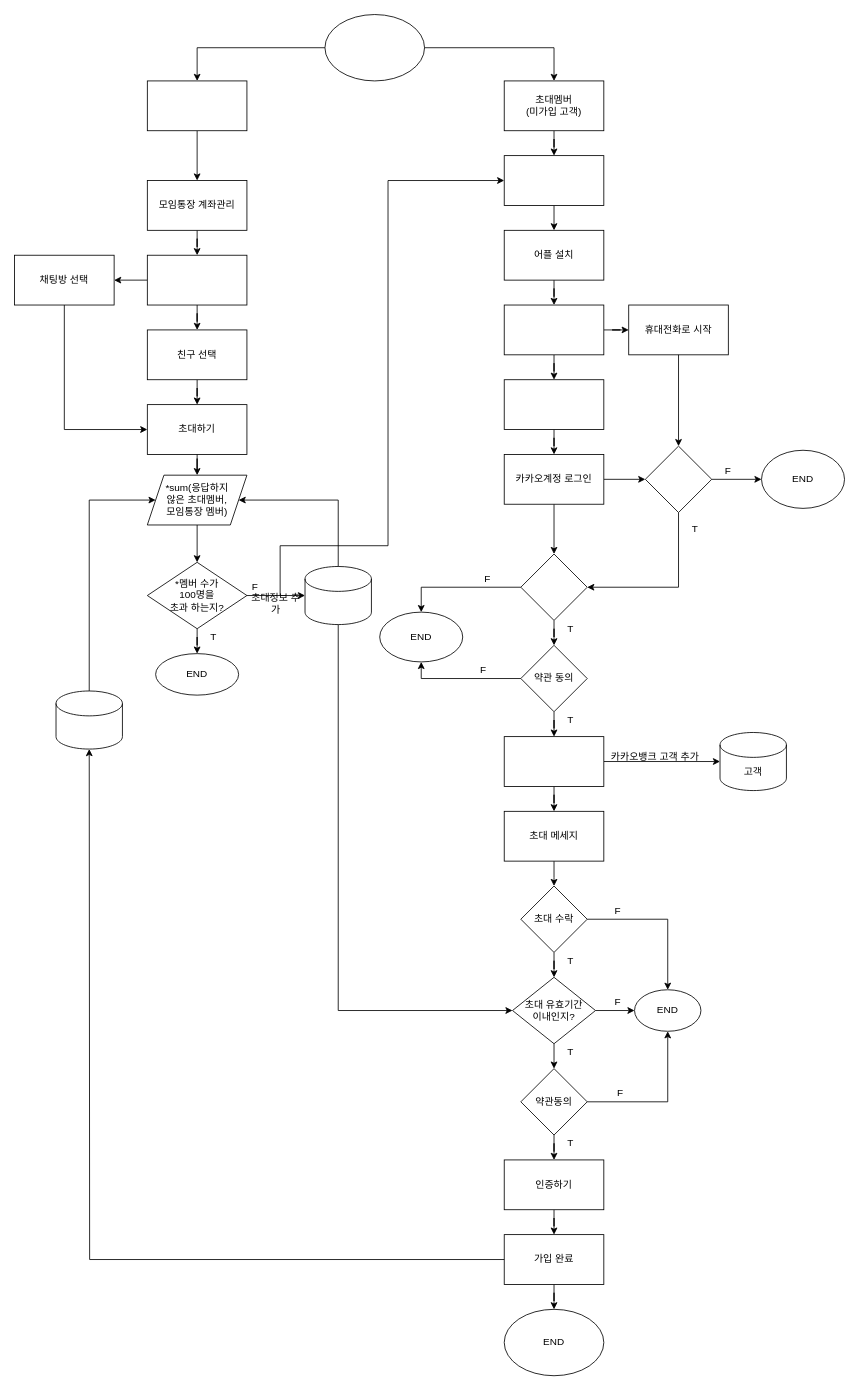
Image size: 859x1390. Some labels were removed from this diagram. The shapes that lost their labels are listed below. From the top down, each one's box as (x1, y1, x2, y2) in pixels, then its label:
(324, 14, 425, 81): START
(146, 80, 247, 131): 모임주
(503, 155, 604, 205): 초대 메세지 확인
(146, 254, 247, 305): 친구 초대
(503, 304, 604, 355): 권한 허용
(503, 379, 604, 430): 카카오계정으로 시작
(644, 445, 712, 513): 만 14세 이상인가?
(304, 566, 371, 625): 초대
(520, 553, 587, 620): 계정정보 동의
(55, 690, 122, 749): 멤버
(503, 736, 604, 786): 카카오뱅크 시작
